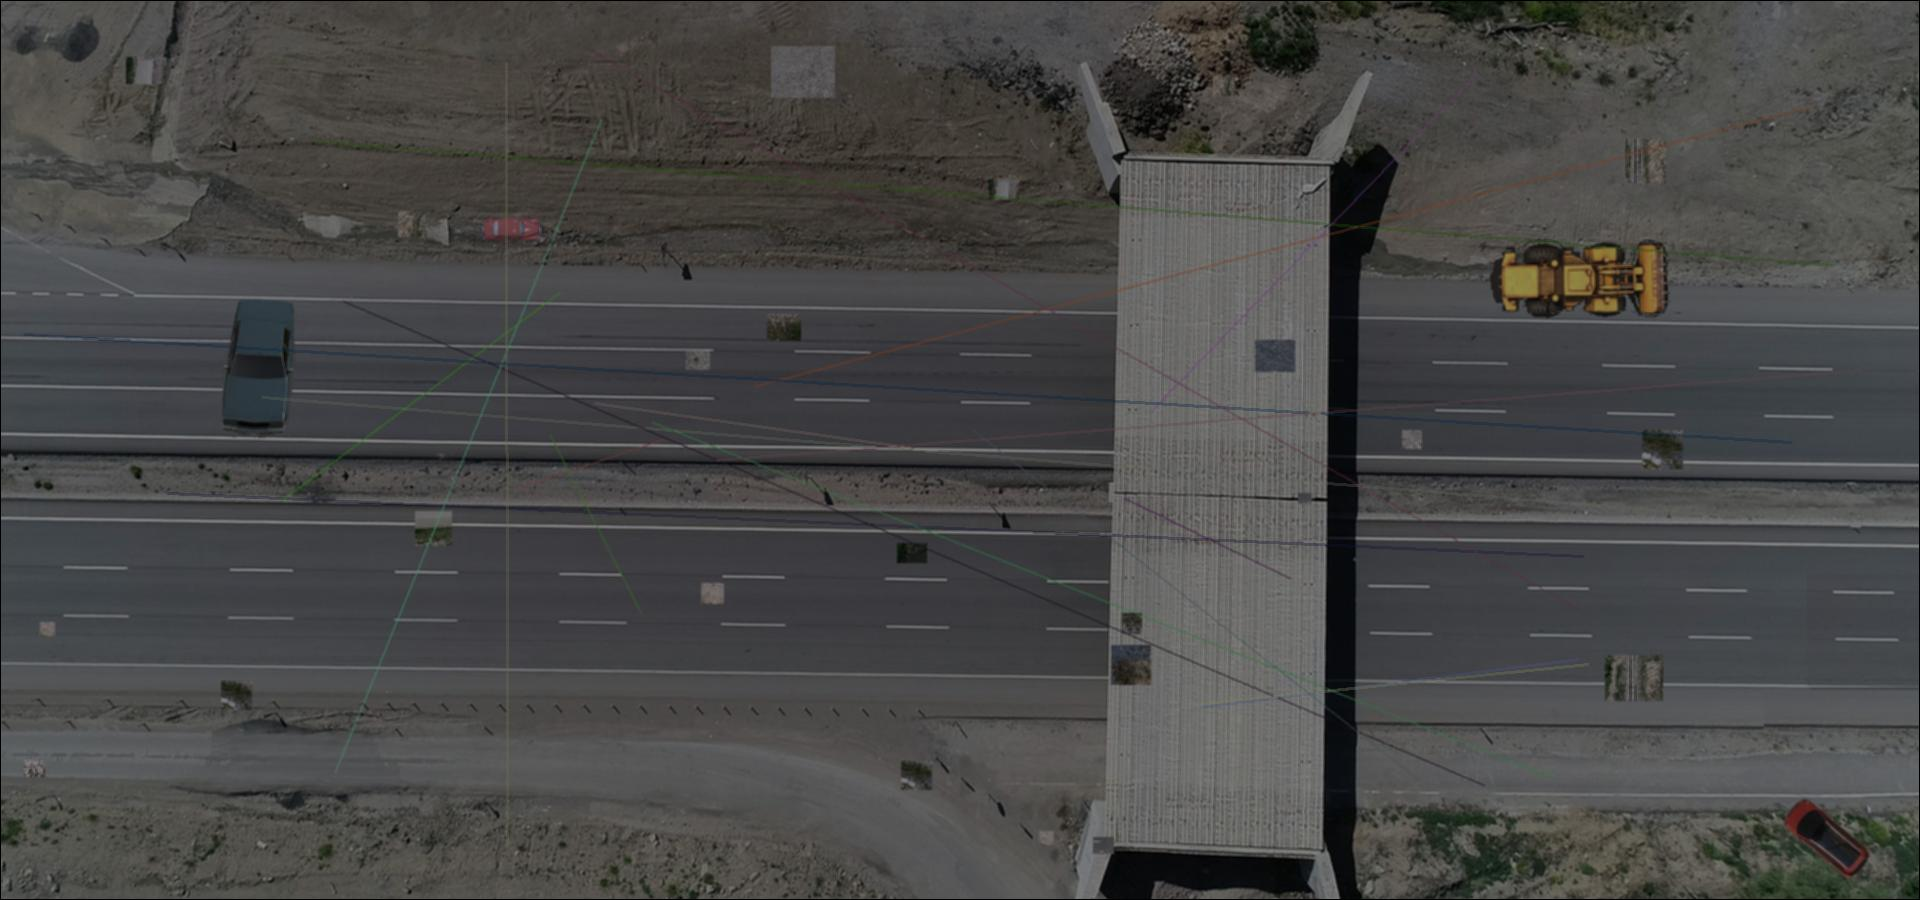arac: (1488, 236, 1671, 320), (222, 298, 299, 438), (1780, 798, 1873, 879), (481, 216, 544, 242)
